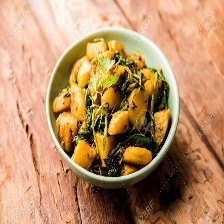sabzi: (52, 36, 172, 177)
